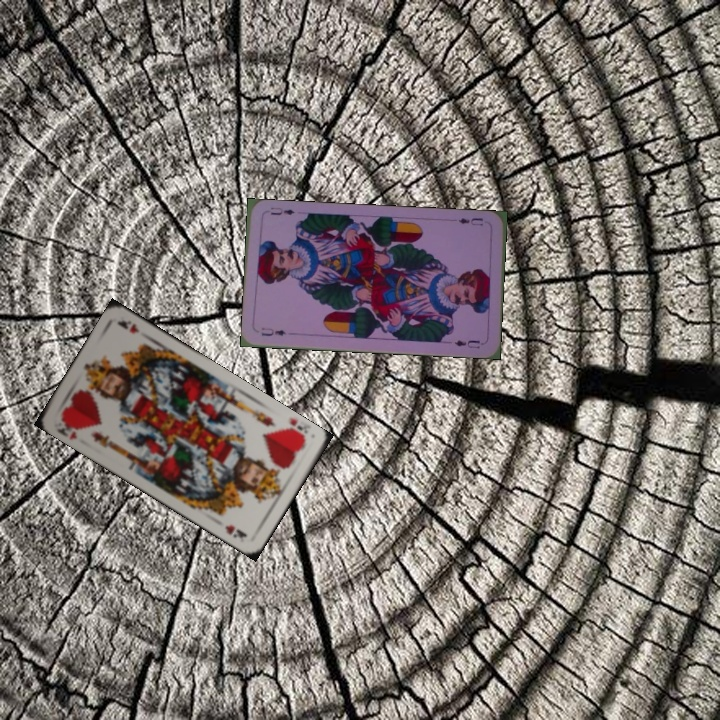EU: (257, 324, 288, 339), (454, 214, 485, 228)
HK: (53, 413, 84, 442), (278, 421, 312, 444)
